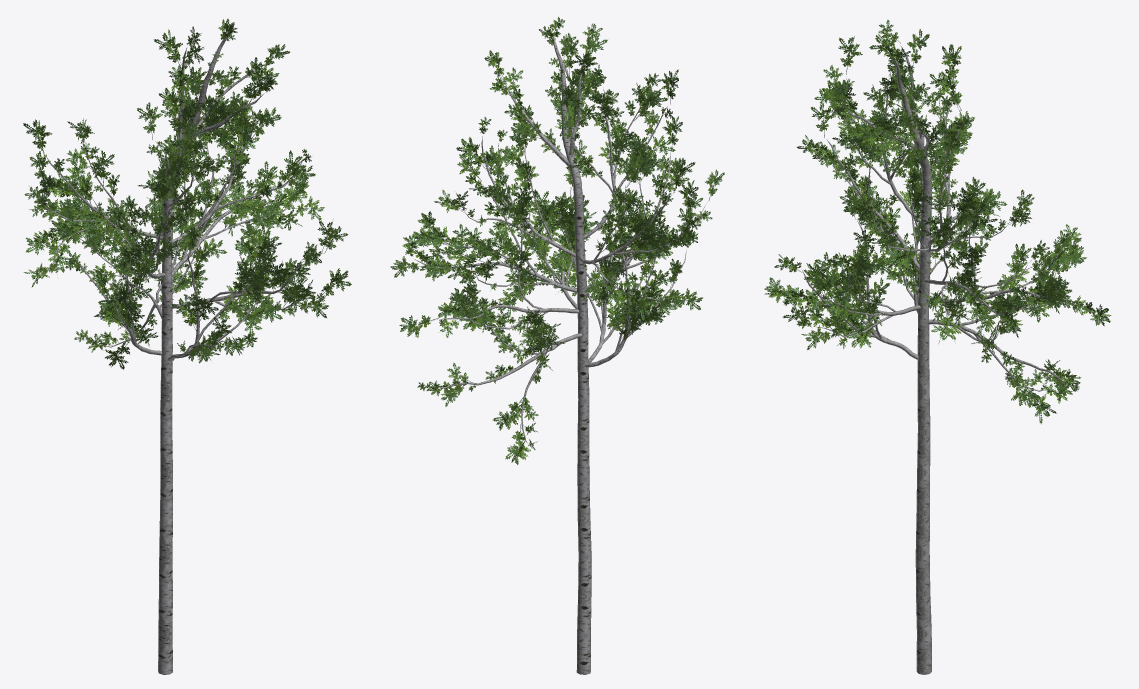
File: aspen_g.glb
3 renders of one model, left to right at view 1: azimuth 30°, elevation 25°; view 2: azimuth 150°, elevation 25°; view 3: azimuth 270°, elevation 25°, orthographic. The views are drawn at different scales.
Parts seen in each view (by area): view 1: Tree; view 2: Tree; view 3: Tree.
Boxes of the visible parts, <box> form: Tree: <box>23,18,351,674</box>; Tree: <box>390,16,724,674</box>; Tree: <box>764,20,1111,674</box>.
Bounding box in the file's own units: 33.35 × 68.36 × 34.25.
Materials: 2 (2 with a texture image).
